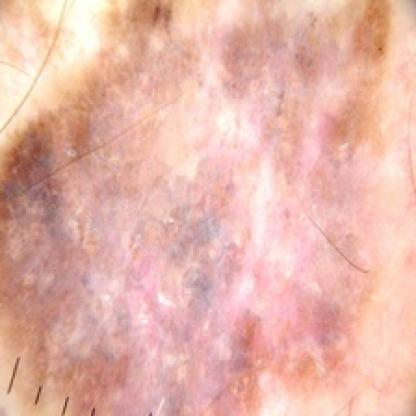malignant: (17, 52, 397, 383)
